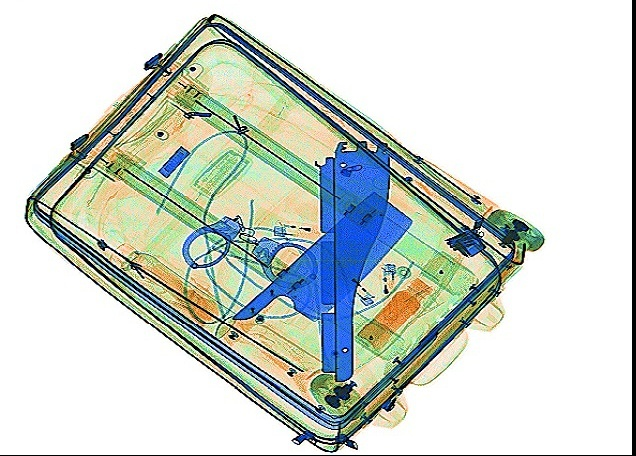handcuffs: (180, 214, 319, 289)
knife: (215, 190, 412, 349)
lighter: (334, 260, 374, 308), (273, 219, 338, 242), (377, 260, 399, 323)
pressure: (105, 241, 239, 339)
